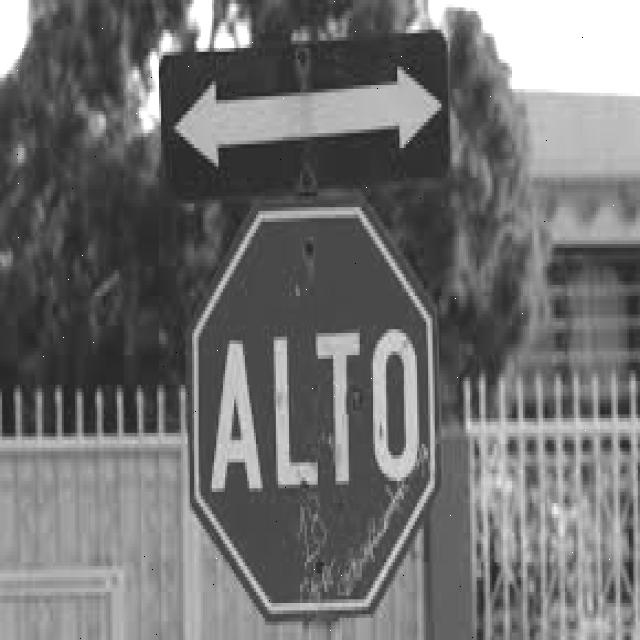Stop-sign: (176, 189, 448, 630)
